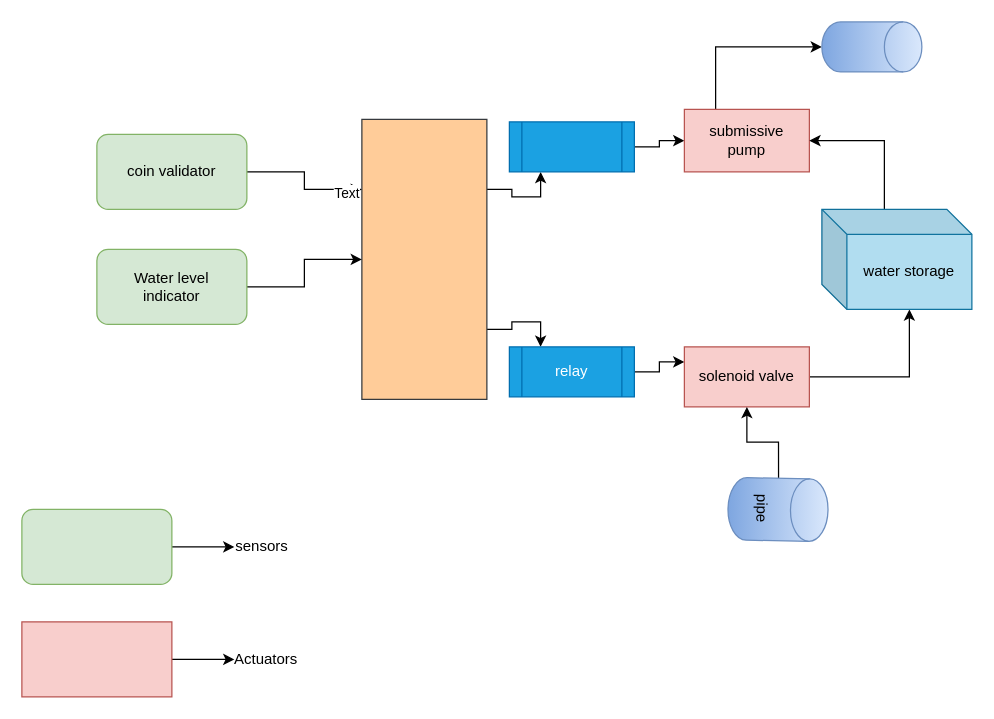
Some shapes in this 994 by 719 pixel diagram are drawn without their labels. The shapes that lost their labels are listed below. From the top down, each one's centre as x and y in pixels, then its label:
the point at 871,46: water outlet
the point at 571,146: motordriver
the point at 424,258: Microcotroller
